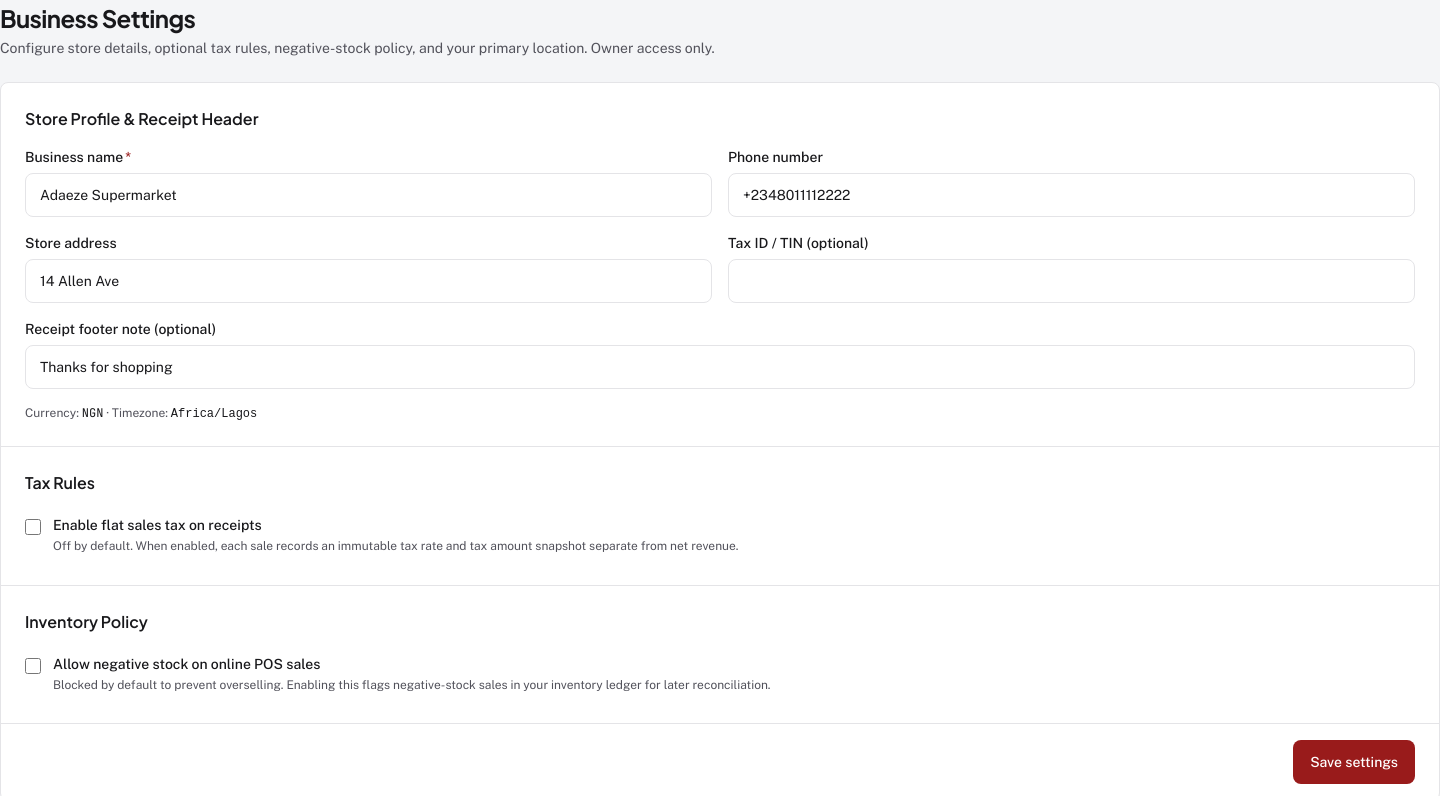
Stage 09 Settings (Business + D-02 Location + Capacity) & D-12 Notifications Inbox › loads business settings, primary location, and subscription capacity, validates tax, and saves both forms
This screenshot has width=1440, height=796.
# Update business name & save
Replace the text in the field labelled "Business name" with "Adaeze Supermarket Ltd" at (368, 195), box [25,173,712,217]
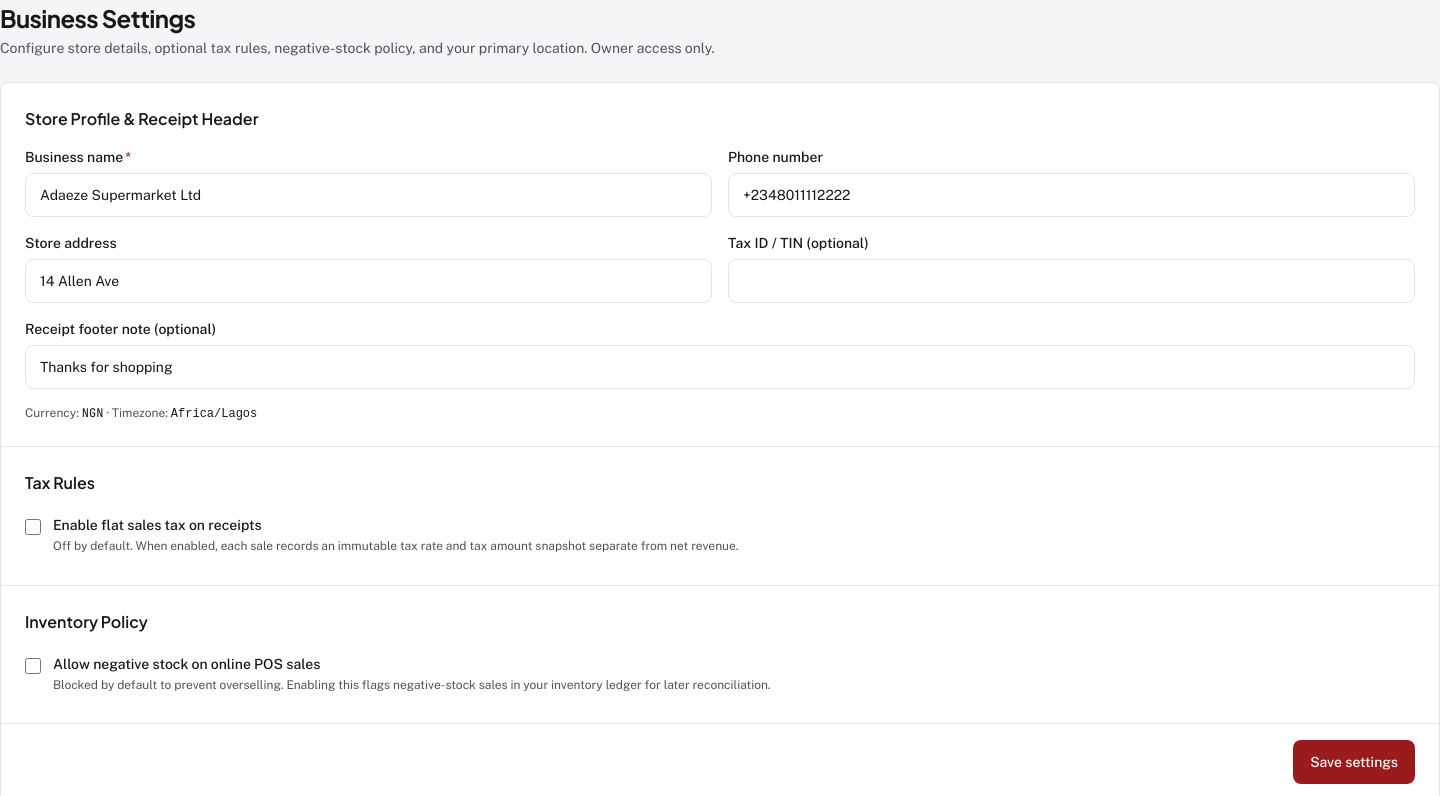
Click the button "Save settings" at (1354, 762), box [1293,740,1415,784]
(page scrolled)
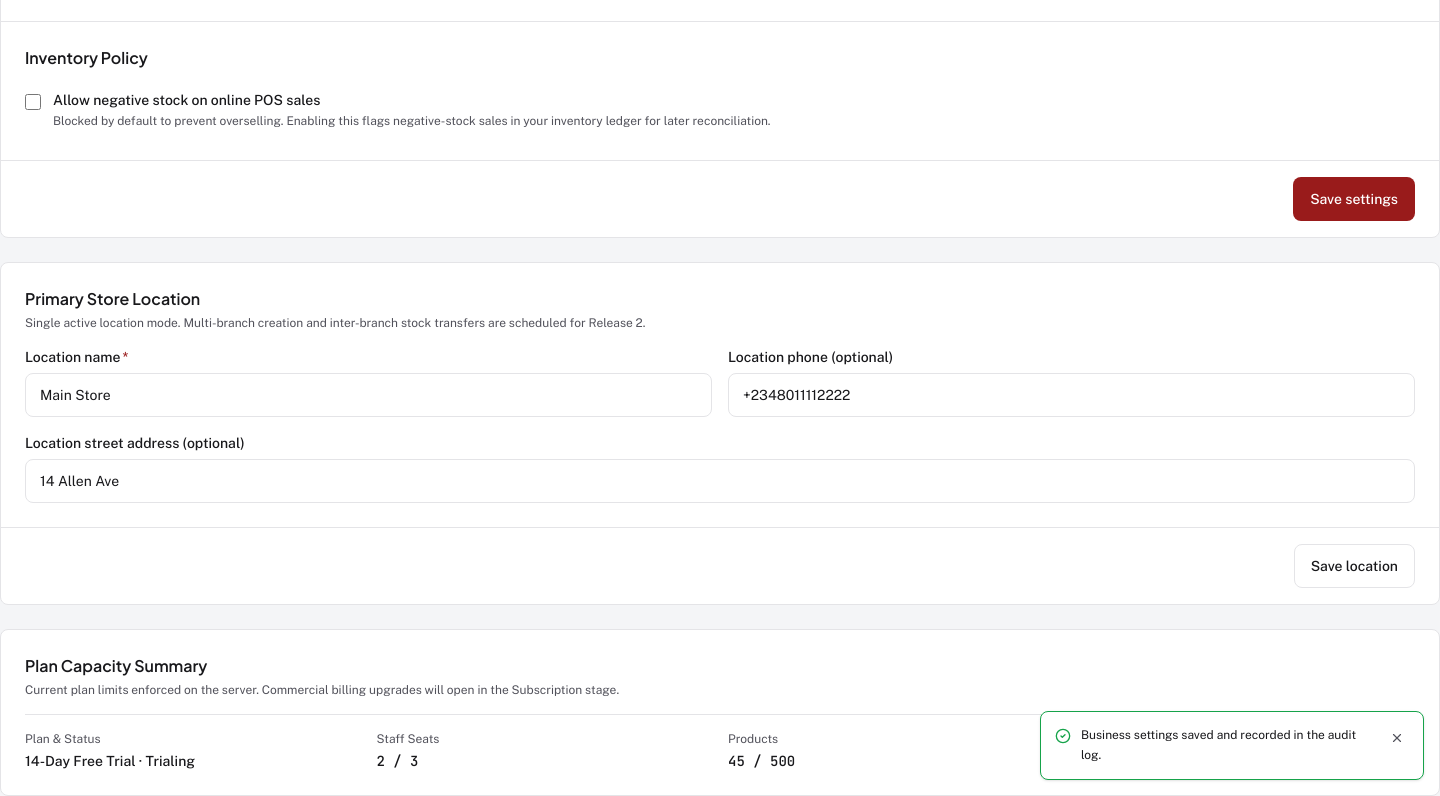
# Update primary store location (D-02) & save
Replace the text in the field labelled "Location name" with "Ikeja Flagship Counter" at (368, 394), box [25,372,712,416]
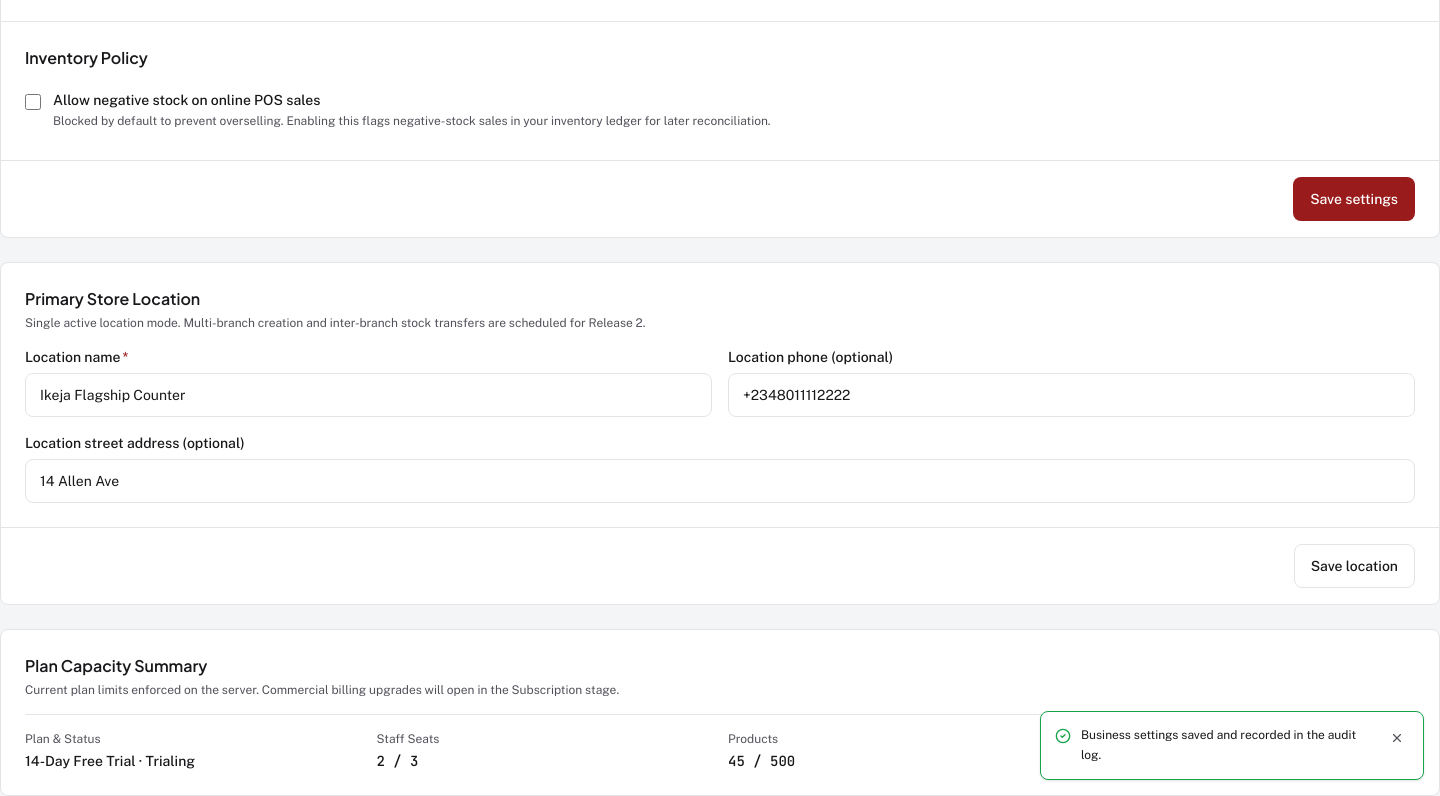
Click the button "Save location" at (1354, 566), box [1294,544,1415,588]
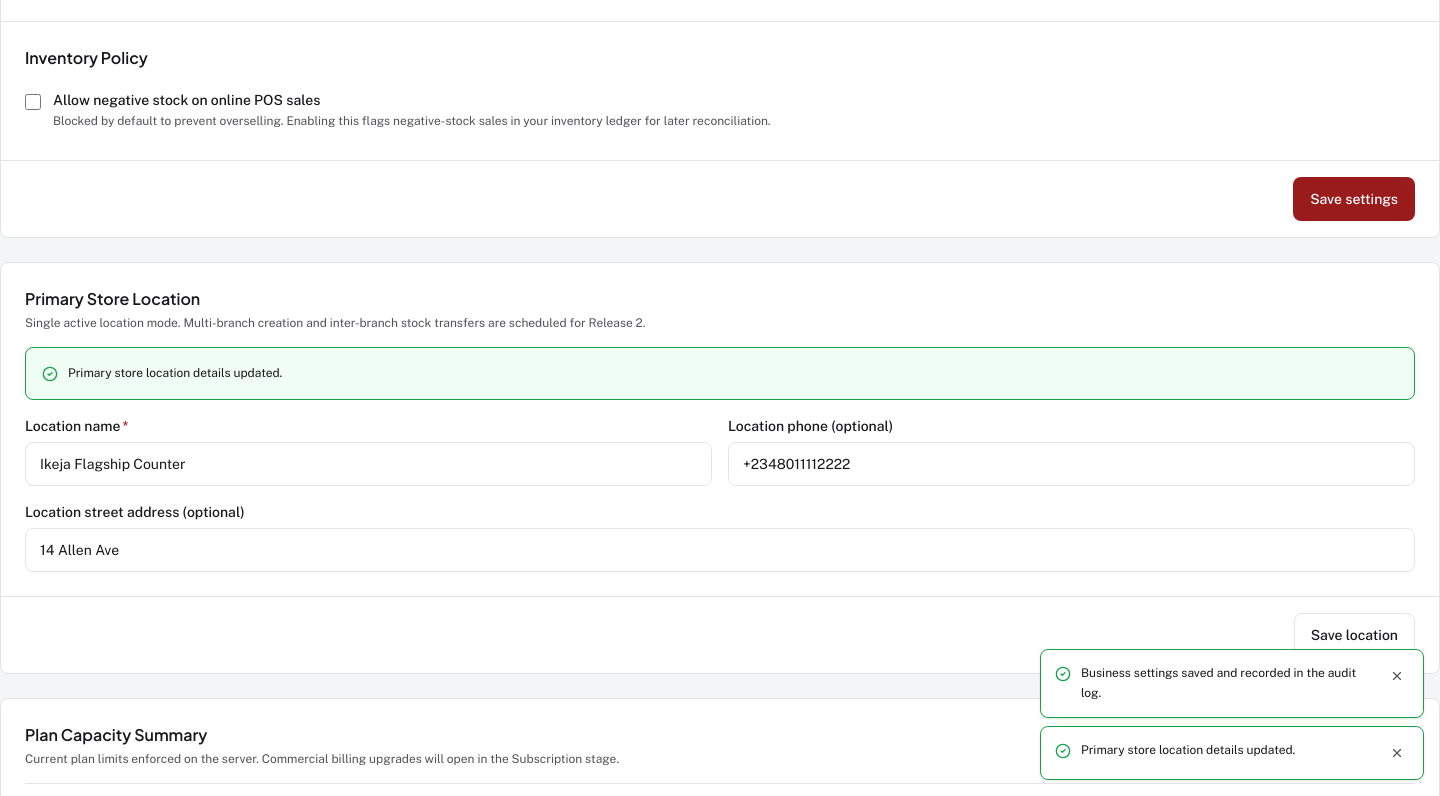
expect the 1st text "Primary store location details updated." is shown: met, box [68,364,282,383]
